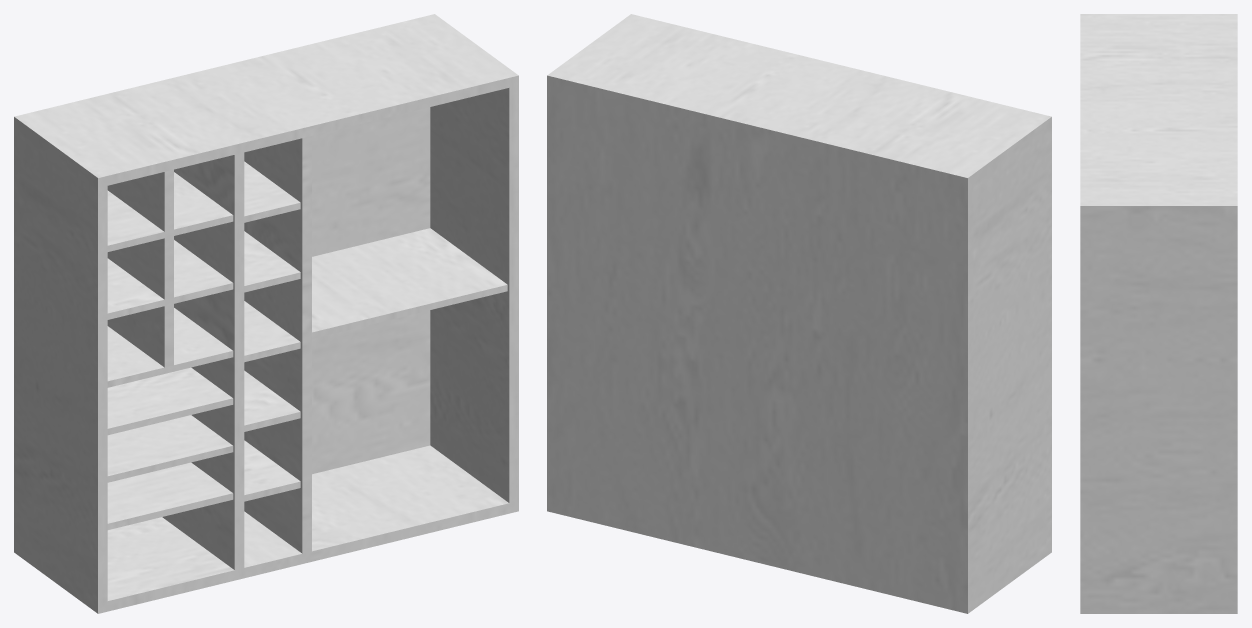
File: Closet09.fbx
3 views of the same model, side by side, from view 1: azimuth 30°, elevation 25°; view 2: azimuth 150°, elevation 25°; view 3: azimuth 270°, elevation 25° (orthographic). The views are drawn at different scales.
Visible parts, largest first — view 1: Closet09; view 2: Closet09; view 3: Closet09.
Part boxes in pixels (left/top/right/bottom): Closet09: left=14, top=14, right=518, bottom=613; Closet09: left=547, top=14, right=1051, bottom=613; Closet09: left=1080, top=14, right=1237, bottom=613.
Size of the model in its own units: 257 by 254 by 88.93.
